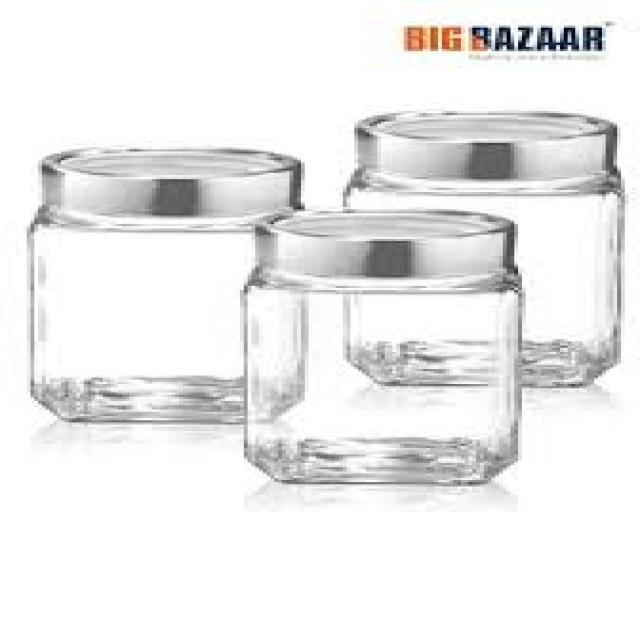glass: (233, 265, 515, 484), (339, 162, 617, 384), (27, 203, 297, 418)
metal: (355, 109, 610, 179), (252, 209, 511, 275), (42, 147, 297, 211)
